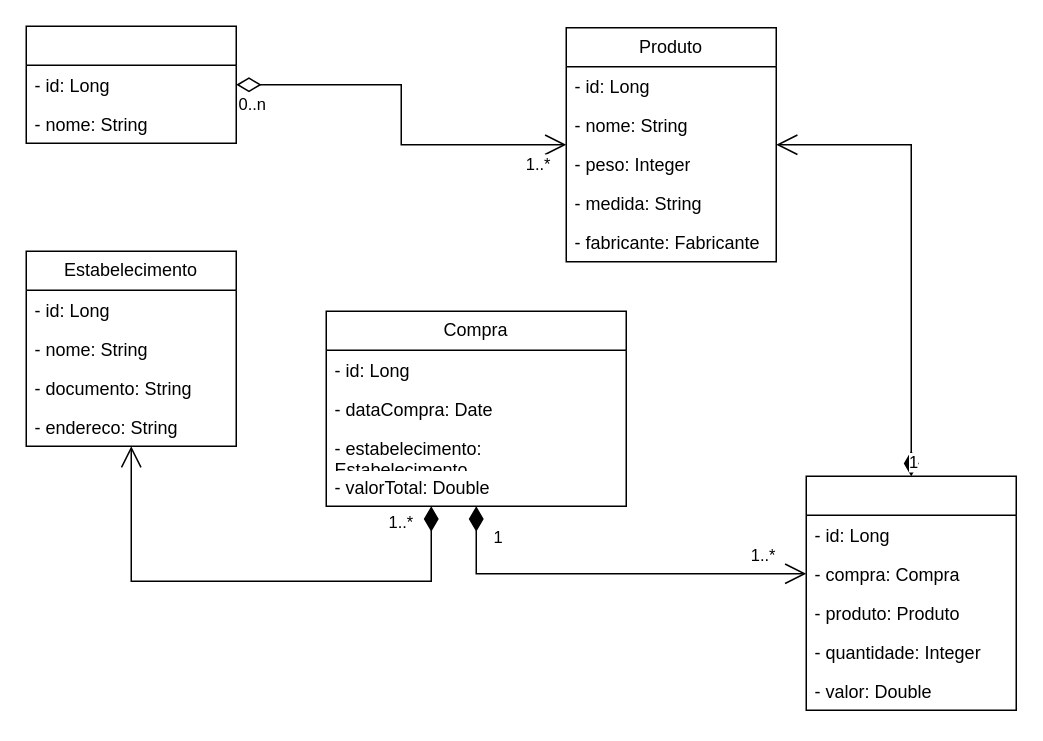
This 1043x741 diagram has some shape labels left out. Here are the shapes that lost their labels. From the top down, the box of each, then its label:
(25, 25, 236, 143): Fabricante
(805, 475, 1016, 710): ItemCompra
